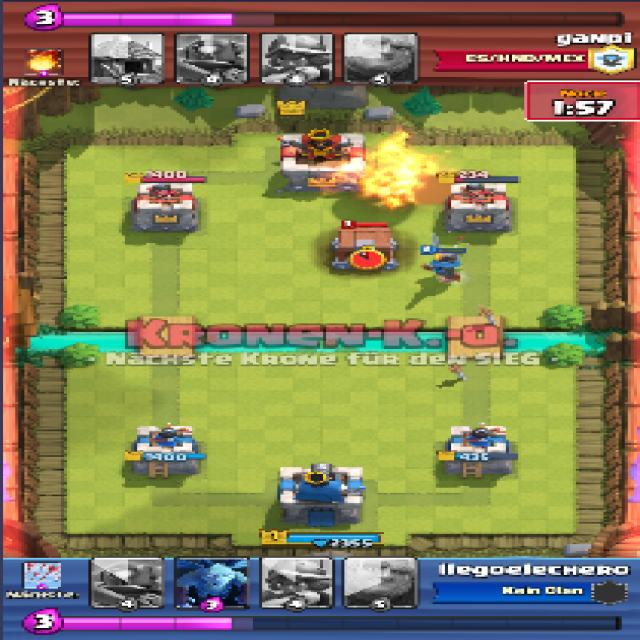Player-Fireball: (356, 150, 450, 206)
Player-GoblinCage: (326, 224, 402, 270)
Player-Knight: (420, 248, 469, 285)
